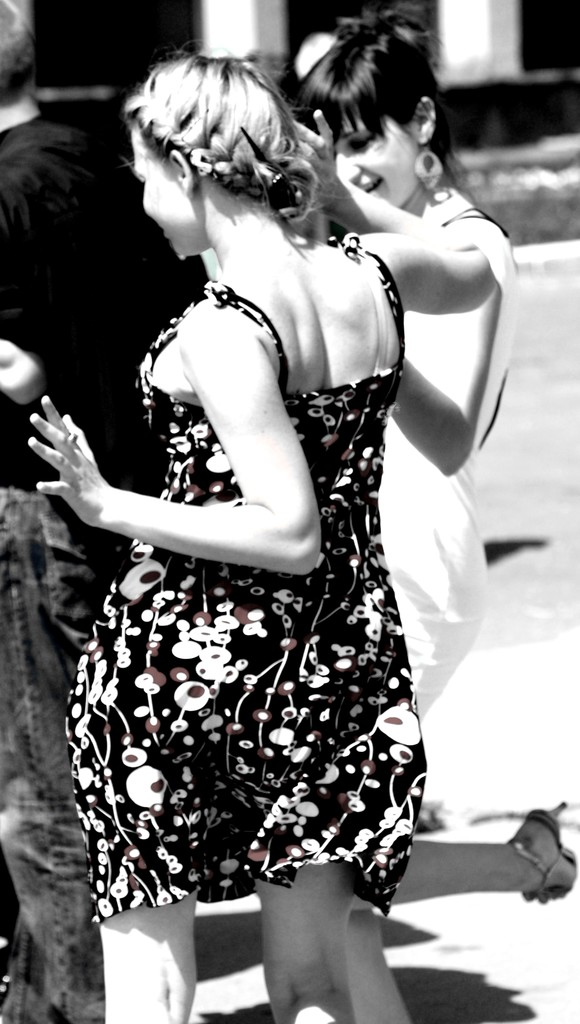Human_hand: (27, 396, 111, 527), (293, 107, 335, 212)
